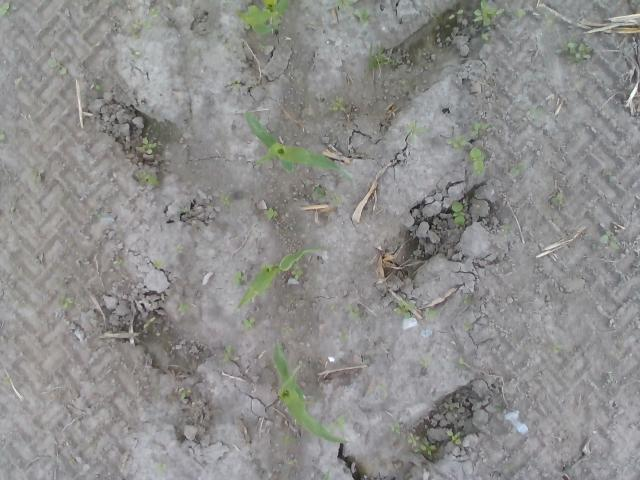Maize: (242, 110, 356, 190), (272, 337, 353, 444), (236, 247, 322, 309)
Weeds: (241, 0, 289, 37), (472, 0, 504, 44), (366, 43, 402, 73), (560, 40, 594, 66), (335, 0, 369, 25), (406, 431, 438, 456), (467, 145, 487, 176), (126, 17, 152, 40), (135, 134, 158, 160), (406, 119, 430, 142), (134, 168, 162, 187), (304, 179, 328, 201), (48, 55, 70, 77), (393, 298, 416, 318), (344, 302, 368, 320), (445, 134, 474, 148), (469, 122, 494, 138), (324, 415, 346, 433), (599, 230, 618, 250), (544, 10, 560, 33), (452, 200, 466, 226), (446, 398, 466, 415), (258, 208, 282, 222), (446, 430, 464, 448), (446, 6, 465, 23), (330, 95, 348, 112), (511, 158, 528, 176), (223, 345, 241, 362), (423, 306, 440, 322), (0, 0, 16, 17), (231, 270, 246, 288), (526, 106, 544, 120), (418, 354, 433, 370), (242, 314, 257, 330), (218, 194, 235, 208), (56, 297, 74, 310), (146, 2, 160, 17), (175, 385, 188, 401), (280, 433, 297, 445), (551, 190, 561, 209), (152, 258, 167, 270), (338, 328, 349, 344), (386, 420, 399, 433), (292, 266, 304, 280), (548, 342, 564, 352), (177, 302, 190, 314), (175, 207, 192, 216), (241, 24, 257, 33), (514, 8, 526, 20), (0, 127, 8, 144), (333, 192, 342, 207), (228, 78, 241, 88), (322, 467, 332, 480), (129, 48, 142, 58), (155, 463, 169, 472), (463, 319, 473, 331), (463, 293, 473, 305), (94, 82, 106, 92), (456, 355, 465, 368), (176, 243, 186, 254), (94, 209, 103, 221), (287, 456, 298, 465), (494, 403, 504, 412), (4, 375, 12, 384), (314, 398, 322, 406), (499, 223, 506, 232), (233, 7, 240, 16), (206, 203, 214, 209), (208, 191, 212, 196)
